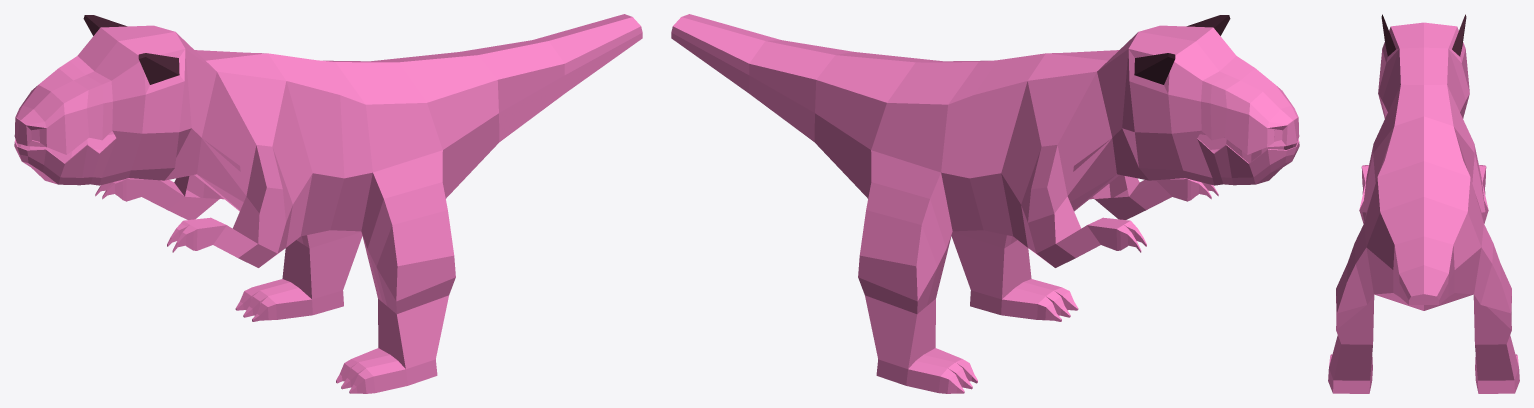
Rendered from dinorojo.fbx.
3 renders of one model, left to right at view 1: azimuth 30°, elevation 25°; view 2: azimuth 150°, elevation 25°; view 3: azimuth 270°, elevation 25°, orthographic. The views are drawn at different scales.
Parts seen in each view (by area): view 1: Cube.012; view 2: Cube.012; view 3: Cube.012.
Boxes of the visible parts, box(x1,y1,x2,y2) form: Cube.012: box(14, 14, 642, 393); Cube.012: box(671, 14, 1299, 393); Cube.012: box(1328, 14, 1519, 393).
Size of the model in its own units: 282 by 806 by 454.
